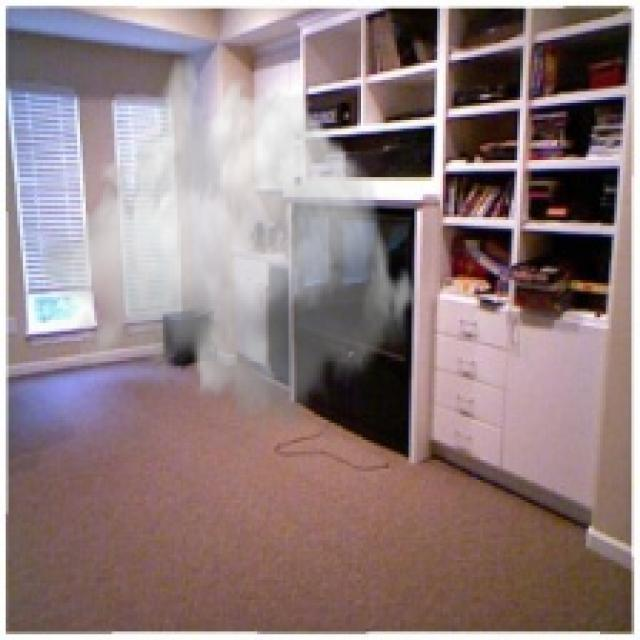smoke: (40, 51, 420, 443)
